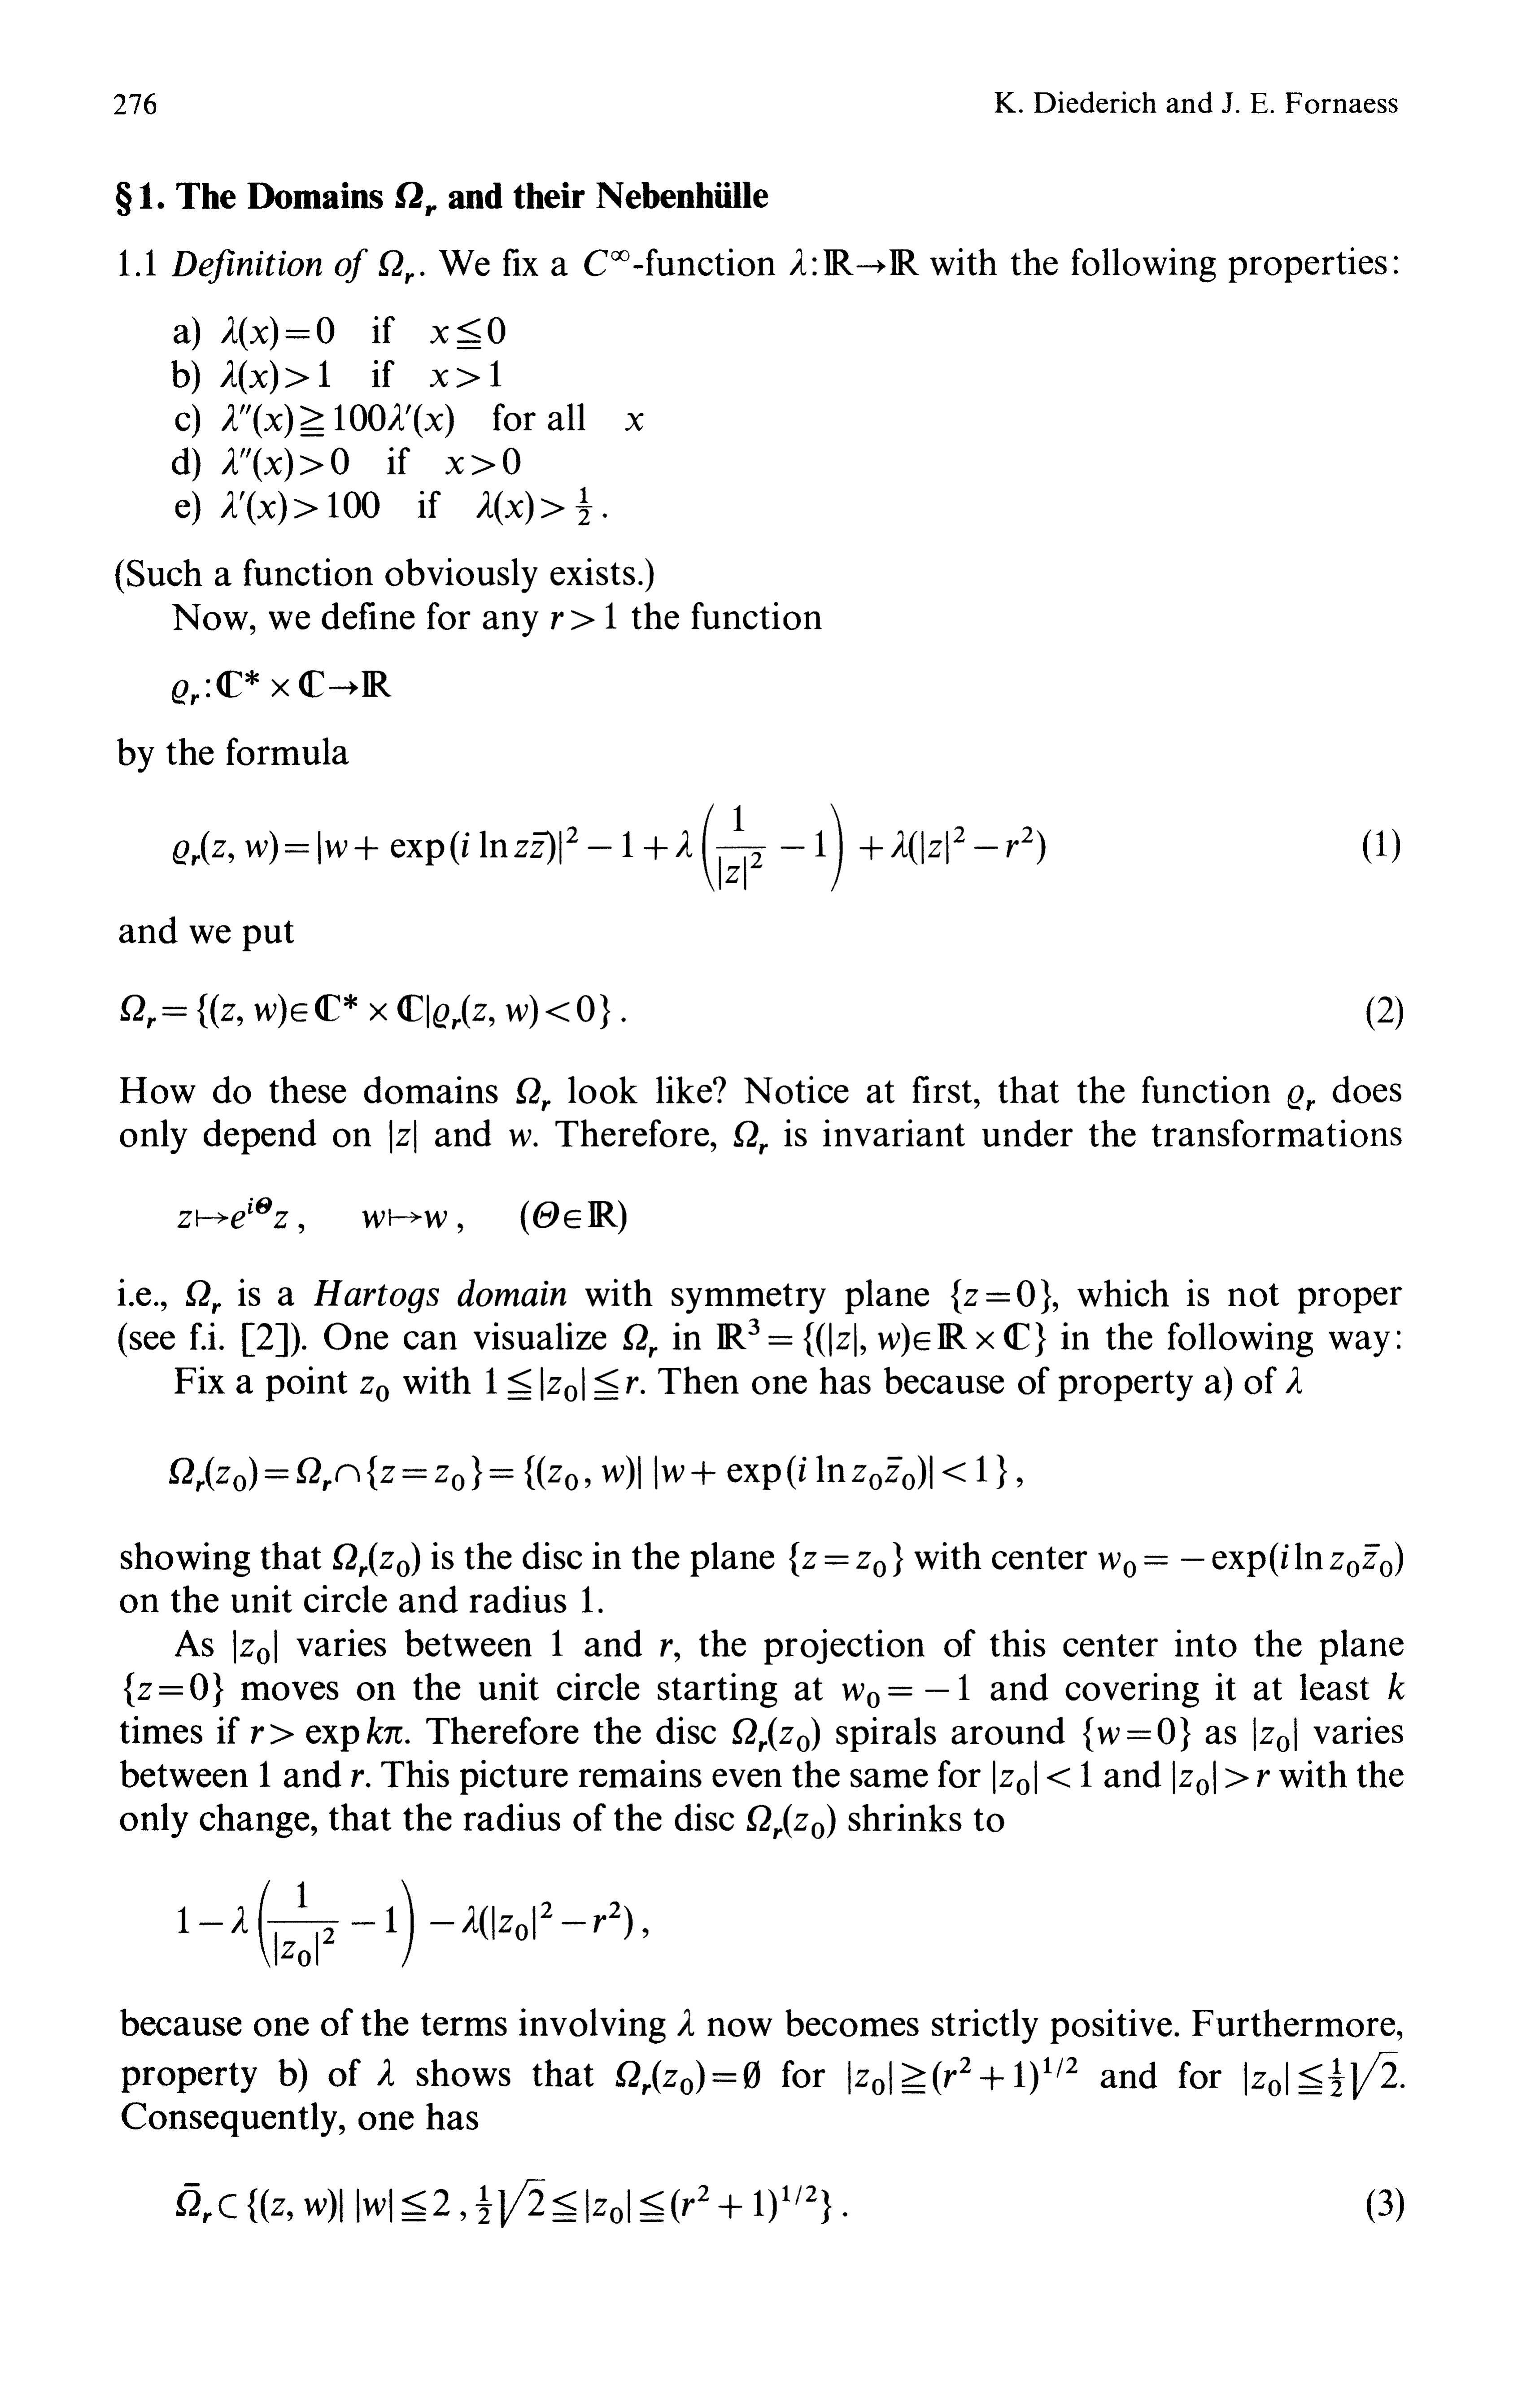maths: (173, 803, 1046, 892), (178, 1880, 631, 1967), (177, 2179, 831, 2228), (170, 1455, 1007, 1492), (121, 993, 610, 1028), (717, 1319, 1046, 1357), (1098, 1542, 1403, 1577), (848, 2057, 1077, 2095), (220, 404, 453, 437), (171, 670, 392, 705), (1245, 2051, 1397, 2100), (220, 491, 379, 525), (616, 2060, 761, 2095), (486, 1368, 638, 1401), (250, 1717, 402, 1750), (841, 1674, 969, 1709), (476, 486, 591, 525), (222, 448, 348, 481), (789, 1542, 902, 1577), (220, 317, 334, 350), (521, 1200, 626, 1235), (220, 360, 331, 393), (178, 1196, 289, 1229), (1083, 1717, 1189, 1750), (124, 1672, 222, 1707), (1172, 1761, 1270, 1796), (790, 248, 918, 275), (951, 1280, 1051, 1313), (993, 1761, 1091, 1794), (332, 1542, 420, 1577), (733, 1717, 820, 1752), (747, 1805, 836, 1838), (430, 317, 505, 350), (446, 448, 519, 474), (430, 360, 500, 386), (551, 603, 616, 630), (362, 1208, 446, 1228), (1254, 1717, 1296, 1752), (395, 182, 435, 215), (233, 1630, 269, 1665), (584, 250, 630, 276), (378, 250, 413, 283), (733, 1121, 768, 1154), (185, 1280, 220, 1313), (623, 1324, 658, 1357), (516, 1077, 549, 1110), (390, 1119, 416, 1152), (1287, 1086, 1315, 1110), (360, 1376, 388, 1401), (677, 2009, 694, 2036), (1389, 1672, 1404, 1700), (378, 2058, 393, 2086), (1285, 1368, 1301, 1394), (624, 413, 644, 430), (509, 1130, 530, 1145), (553, 1630, 561, 1656), (261, 1761, 269, 1787), (352, 1770, 364, 1787), (661, 1639, 672, 1656)
